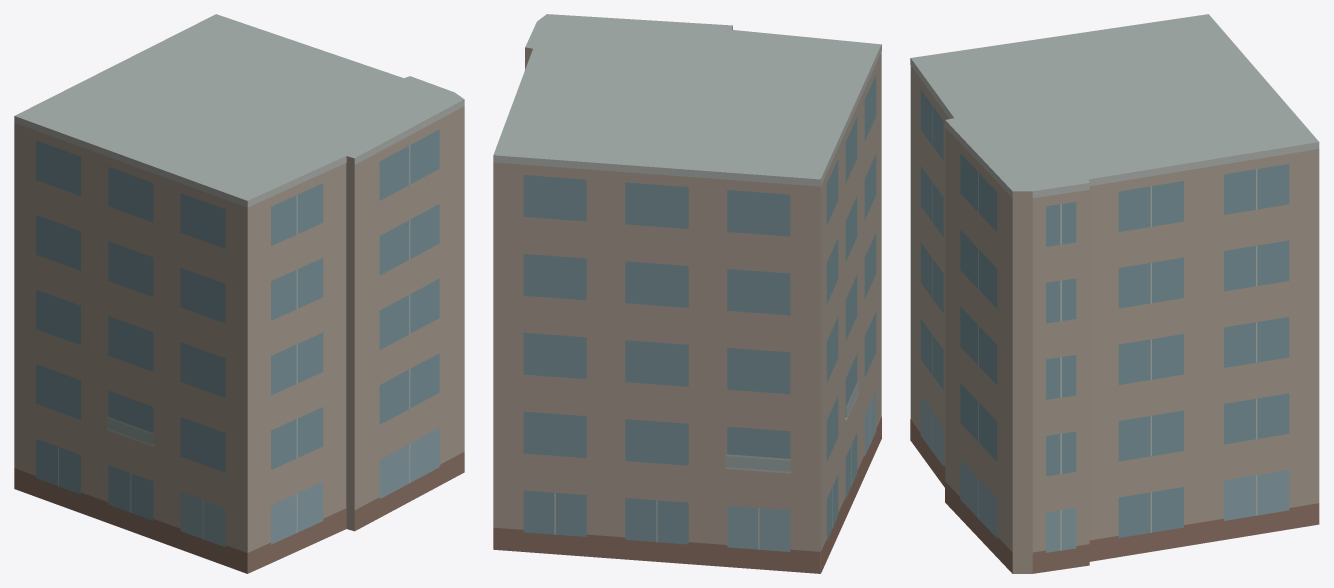
The model's file is survey-upis-32850606.glb.
3 renders of one model, left to right at view 1: azimuth 30°, elevation 25°; view 2: azimuth 150°, elevation 25°; view 3: azimuth 270°, elevation 25°, orthographic. The views are drawn at different scales.
Parts seen in each view (by area): view 1: survey-upis-32850606.tmp; view 2: survey-upis-32850606.tmp; view 3: survey-upis-32850606.tmp.
Part boxes in pixels (left/top/right/bottom): survey-upis-32850606.tmp: left=14, top=14, right=464, bottom=573; survey-upis-32850606.tmp: left=493, top=14, right=881, bottom=573; survey-upis-32850606.tmp: left=910, top=14, right=1319, bottom=573.
Bounding box in the file's own units: 13.39 × 13.45 × 13.04.
